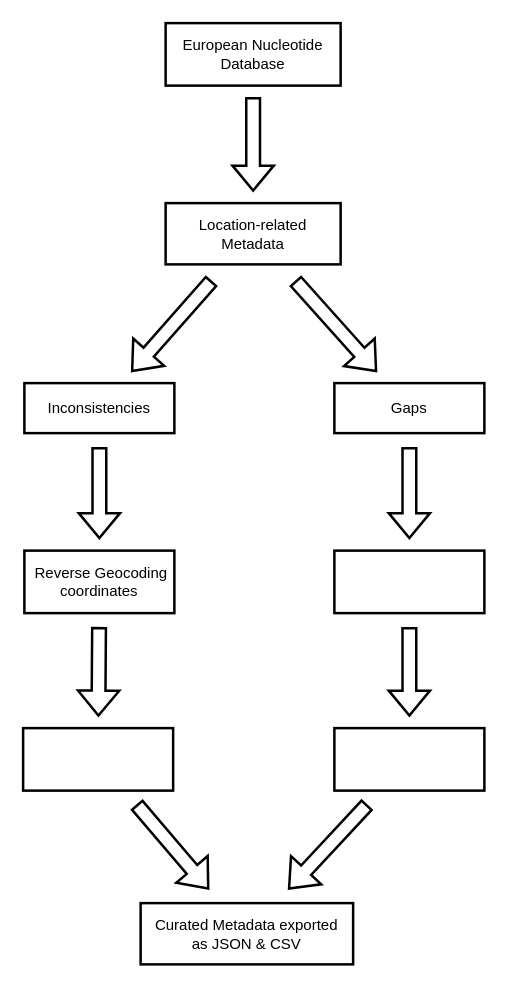
The diagram is 506 pixels wide and 986 high, and some of its shapes have lost their labels. The centre of each missing label's shape, as x and y in pixels:
"Country information retrived" belongs at (x=408, y=758).
"Misalignment detected" belongs at (x=97, y=758).
"Parsing publication information" belongs at (x=408, y=581).
